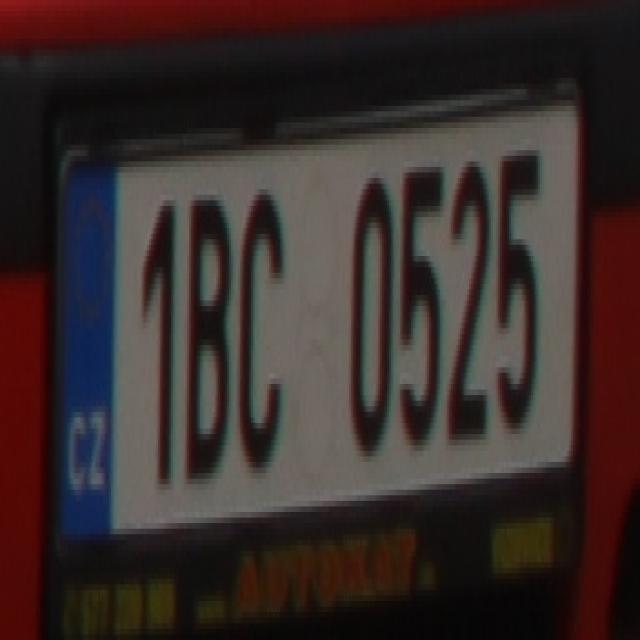0: (344, 161, 394, 473)
1: (136, 178, 176, 507)
2: (448, 150, 490, 440)
5: (398, 167, 444, 451), (494, 145, 540, 412)
B: (184, 190, 232, 496)
C: (235, 178, 288, 473)
